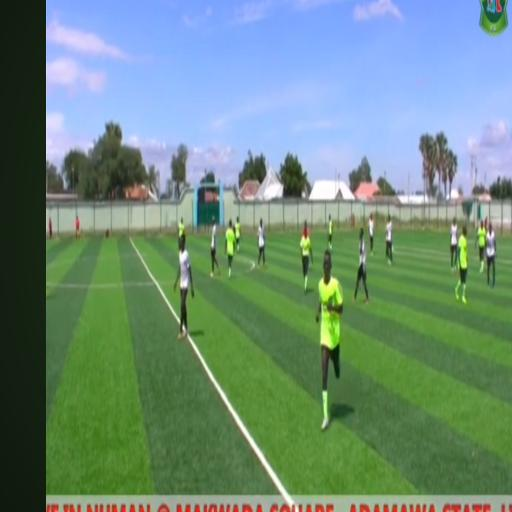team1: (174, 232, 198, 354), (354, 220, 370, 310), (382, 204, 396, 264), (446, 211, 458, 279), (486, 216, 496, 292), (208, 214, 218, 282), (256, 211, 268, 265), (366, 206, 376, 257)
team2: (318, 245, 346, 429), (454, 226, 470, 304), (298, 223, 314, 296), (224, 208, 236, 282), (476, 216, 486, 276), (174, 206, 184, 240), (326, 208, 334, 246)
